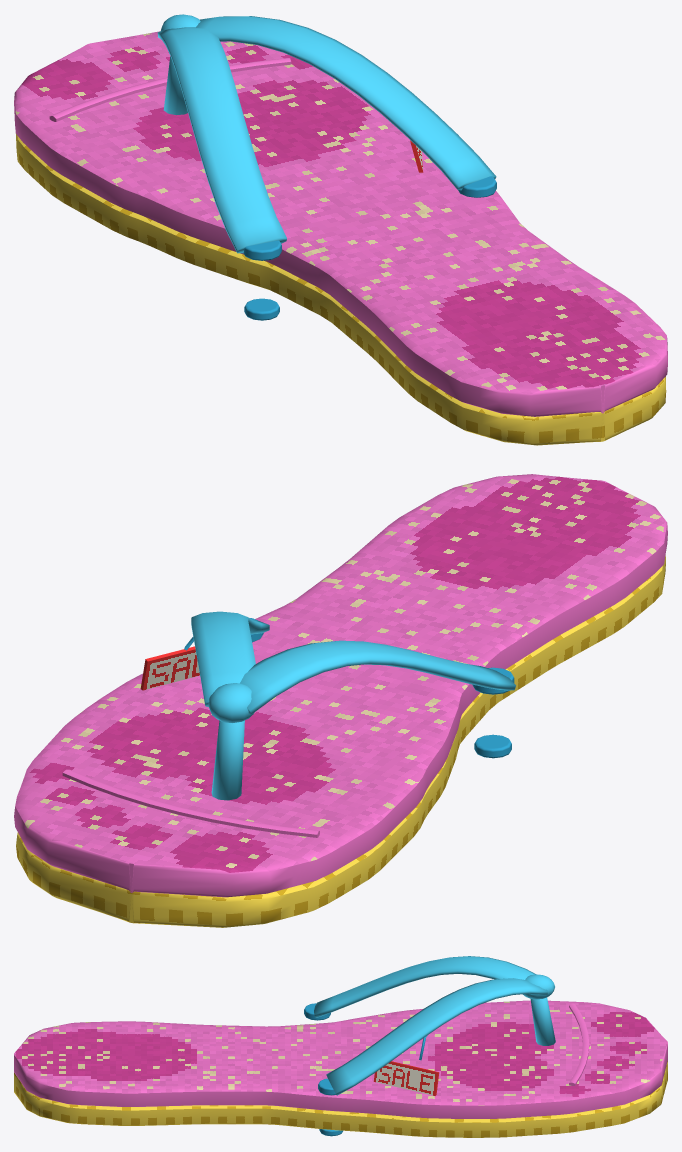
File: pj_slipper_flipflop.glb
The picture shows the model from 3 angles, top to bottom: view 1: azimuth 30°, elevation 25°; view 2: azimuth 150°, elevation 25°; view 3: azimuth 270°, elevation 25°; orthographic projection. The views are drawn at different scales.
Visible parts, largest first — view 1: flipflop_wzA_pj, flipflop_wzB_pj; view 2: flipflop_wzA_pj, flipflop_wzB_pj, flipflop_wzN_pj; view 3: flipflop_wzA_pj, flipflop_wzB_pj, flipflop_wzN_pj.
Boxes of the visible parts, x1,y1,x2,y2 form: flipflop_wzA_pj: [14, 31, 667, 445]; flipflop_wzB_pj: [157, 14, 496, 320]; flipflop_wzA_pj: [14, 474, 667, 927]; flipflop_wzB_pj: [184, 611, 515, 800]; flipflop_wzN_pj: [140, 646, 199, 690]; flipflop_wzA_pj: [14, 1000, 667, 1137]; flipflop_wzB_pj: [304, 956, 555, 1136]; flipflop_wzN_pj: [373, 1061, 439, 1095].
Bounding box in the file's own units: 0.1721 × 0.094 × 0.4482.
7 materials, 3 textured.
